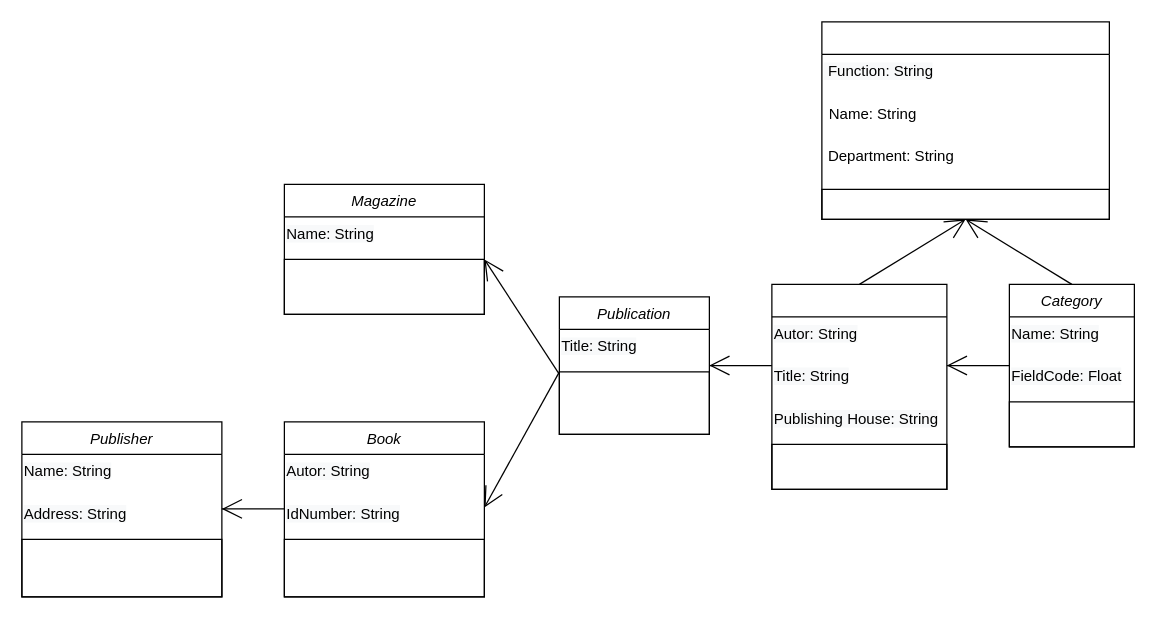
Some shapes in this 1156 by 619 pixel diagram are drawn without their labels. The shapes that lost their labels are listed below. From the top down, each one's box as (x1, y1, x2, y2) in pixels, then its label:
(821, 21, 1109, 219): Scientist
(771, 283, 947, 489): Article
